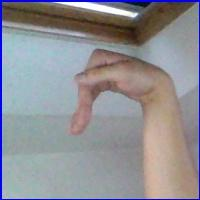del: (63, 41, 174, 144)
